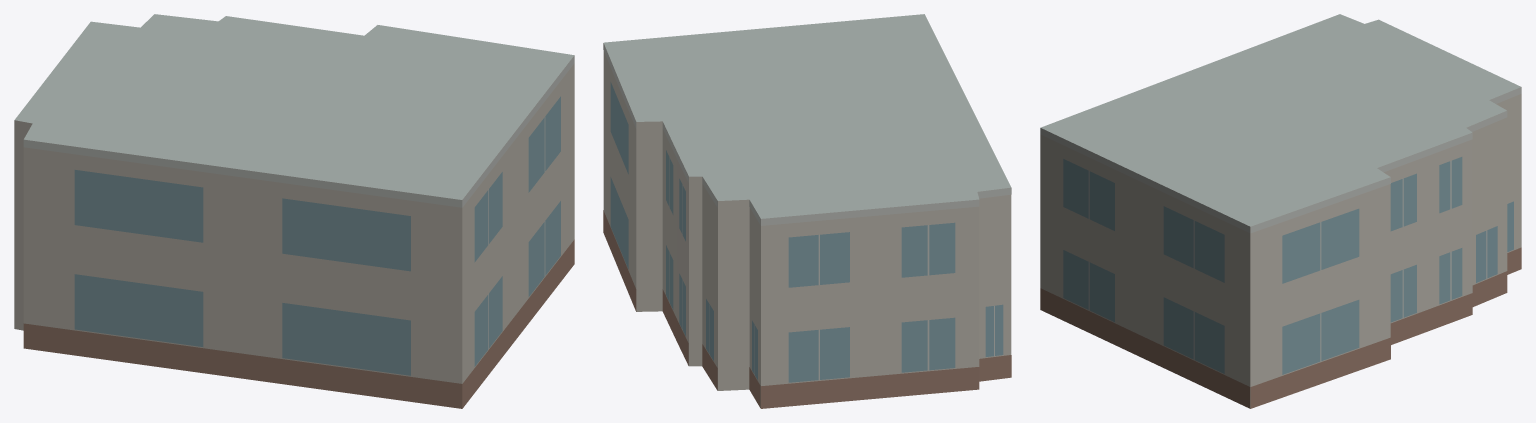
File: survey-upis-32627574.glb
The picture shows the model from 3 angles, left to right: view 1: azimuth 30°, elevation 25°; view 2: azimuth 150°, elevation 25°; view 3: azimuth 270°, elevation 25°; orthographic projection. The views are drawn at different scales.
Parts seen in each view (by area): view 1: survey-upis-32627574.tmp; view 2: survey-upis-32627574.tmp; view 3: survey-upis-32627574.tmp.
Part boxes in pixels (bbox=[...]): survey-upis-32627574.tmp: bbox=[14, 14, 574, 408]; survey-upis-32627574.tmp: bbox=[603, 14, 1011, 408]; survey-upis-32627574.tmp: bbox=[1040, 14, 1521, 408].
Size of the model in its own units: 16.54 by 6.6 by 15.81.
